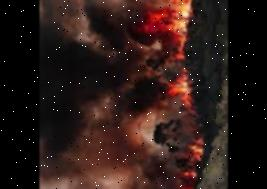fire: (150, 0, 206, 110), (175, 135, 207, 189)
